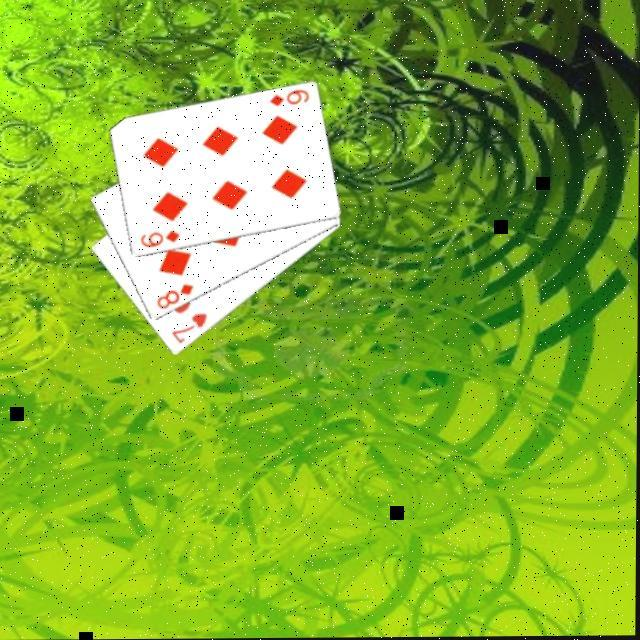6D: (269, 89, 314, 112), (140, 230, 184, 252)
7H: (170, 312, 212, 348)
8D: (156, 284, 198, 314)
